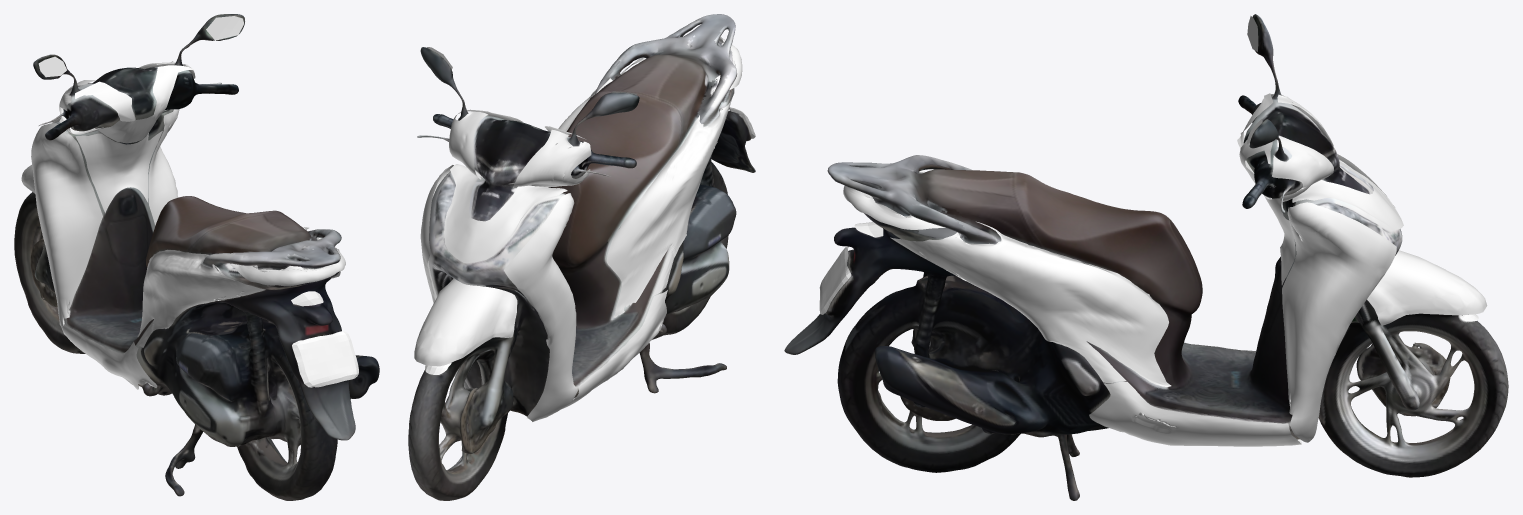
File: MODEL-Honda-SH160i.glb
3 renders of one model, left to right at view 1: azimuth 30°, elevation 25°; view 2: azimuth 150°, elevation 25°; view 3: azimuth 270°, elevation 25°, orthographic. The views are drawn at different scales.
Parts seen in each view (by area): view 1: Retopo_3DModel.001, Texture_SH160_Z-places; view 2: Retopo_3DModel.001, Texture_SH160_Z-places; view 3: Retopo_3DModel.001, Texture_SH160_Z-places.
Part boxes in pixels (x1,y1,x2,y2): Retopo_3DModel.001: (14, 14, 379, 500); Texture_SH160_Z-places: (21, 16, 358, 389); Retopo_3DModel.001: (408, 14, 755, 500); Texture_SH160_Z-places: (414, 36, 755, 421); Retopo_3DModel.001: (784, 14, 1508, 500); Texture_SH160_Z-places: (819, 16, 1487, 446).
Bounding box in the file's own units: 0.7463 × 1.23 × 1.97.
2 materials, 1 textured.
